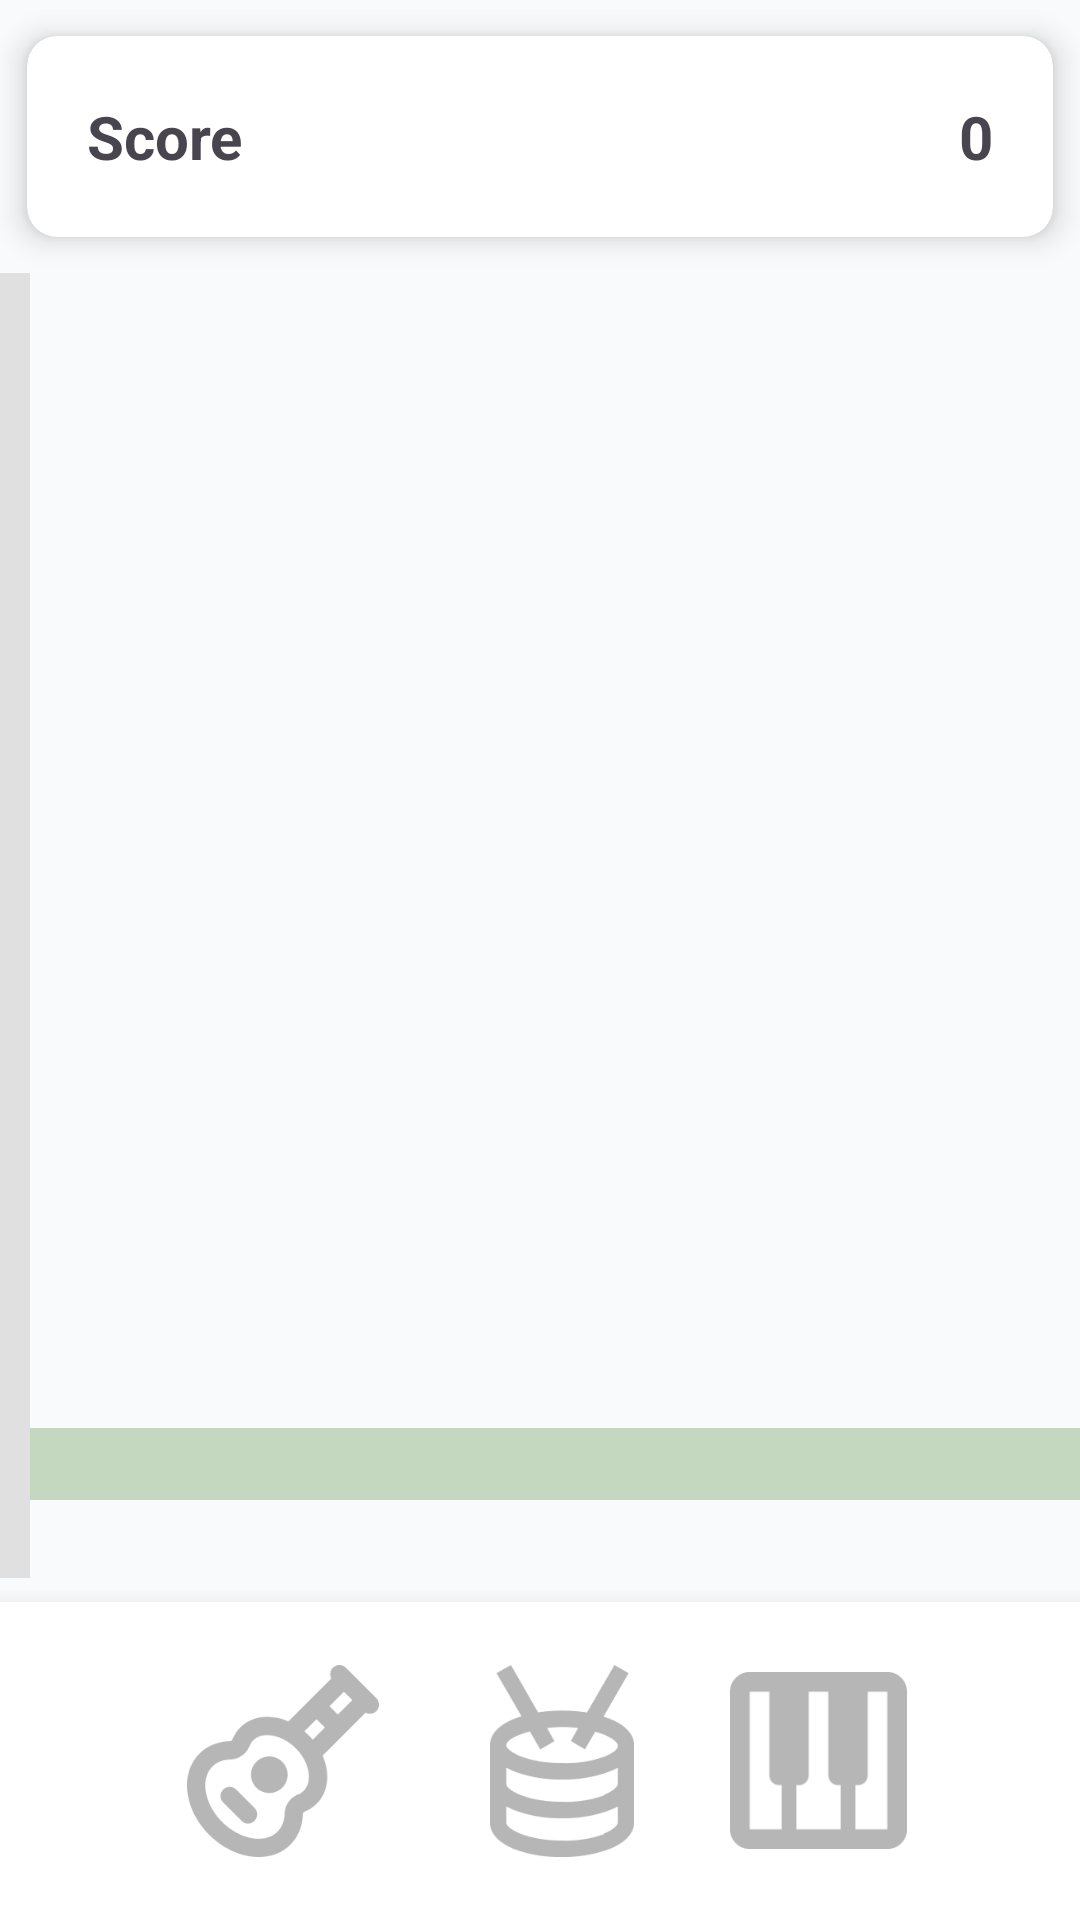

Icons on this 1080*1920 Android screen, each with its box as (x1, y1, x2, y2):
drum gauge: (490, 1665, 634, 1857)
guitar gauge: (187, 1665, 379, 1857)
piano gauge: (730, 1672, 907, 1849)
